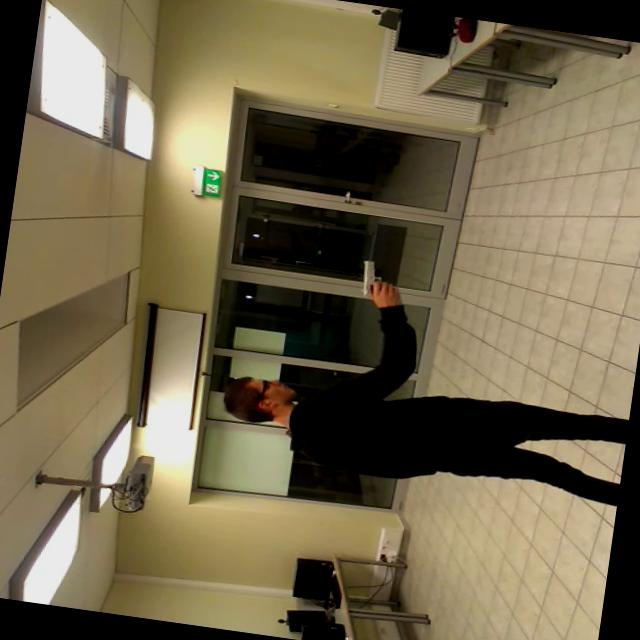handgun: (349, 250, 401, 302)
